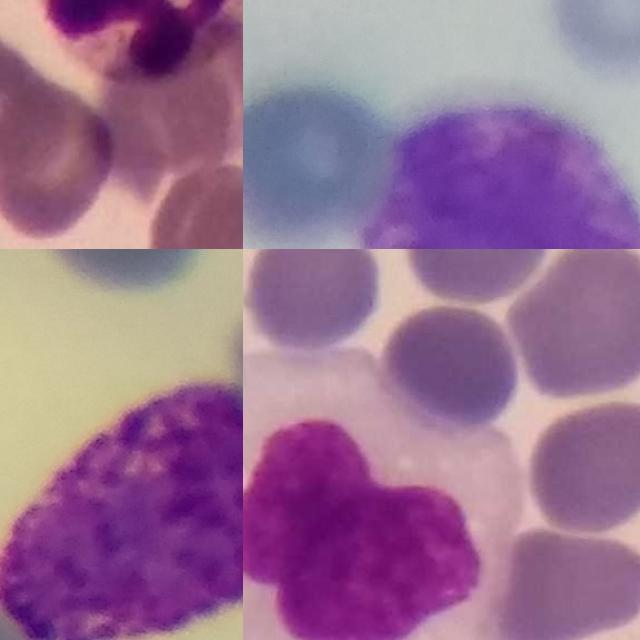Basophil: (0, 375, 243, 640), (360, 99, 640, 249)
Monocyte: (243, 350, 524, 640)
Neutrophil: (35, 0, 243, 85)
